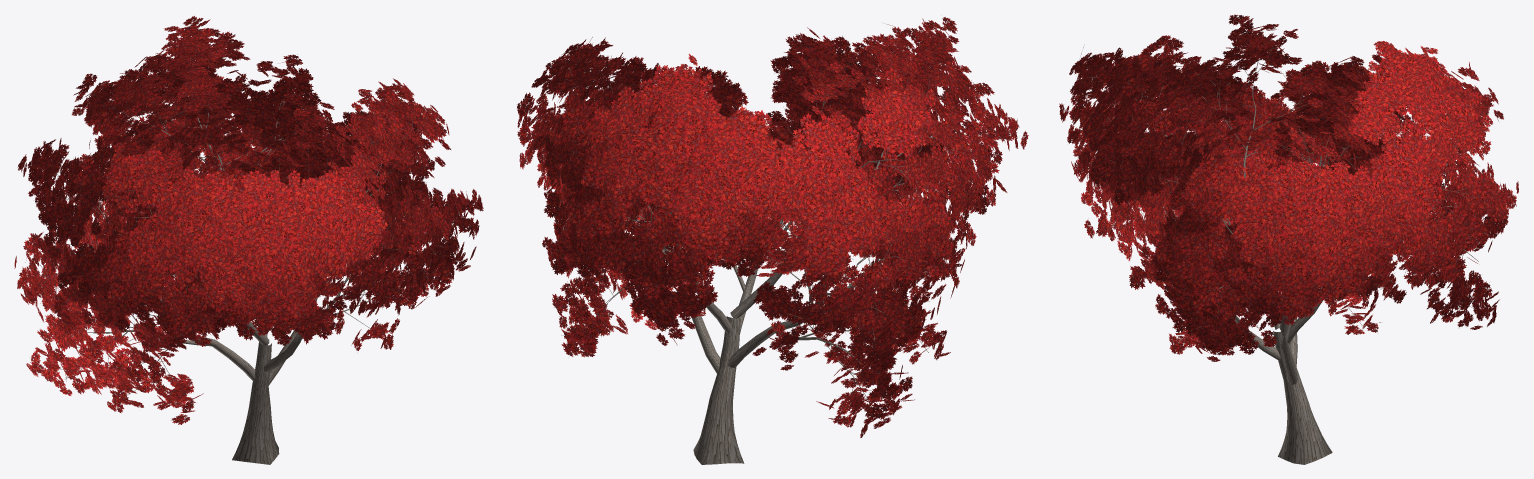
The model's file is tree-maple-red.glb.
3 renders of one model, left to right at view 1: azimuth 30°, elevation 25°; view 2: azimuth 150°, elevation 25°; view 3: azimuth 270°, elevation 25°, orthographic. The views are drawn at different scales.
Visible parts, largest first — view 1: leaves, bark; view 2: leaves, bark; view 3: leaves, bark.
Part boxes in pixels (x1,y1,x2,y2): leaves: [14, 16, 483, 424]; bark: [39, 36, 457, 464]; leaves: [517, 17, 1028, 437]; bark: [542, 36, 1006, 464]; leaves: [1059, 14, 1518, 361]; bark: [1089, 32, 1488, 464].
Size of the model in its own units: 11.73 by 11.28 by 11.45.
2 materials, 2 textured.
